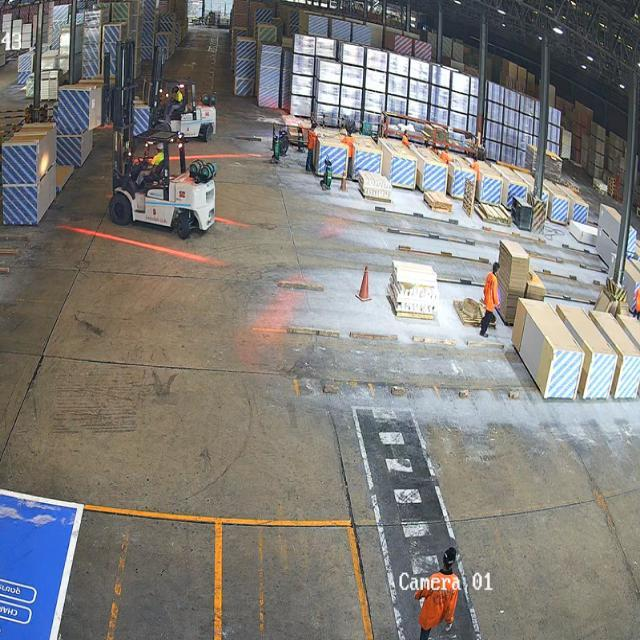driver: (134, 143, 167, 184)
forklift: (103, 128, 220, 242), (148, 76, 222, 136)
person: (407, 541, 464, 640), (478, 260, 504, 339), (304, 120, 318, 172), (344, 130, 354, 157)
